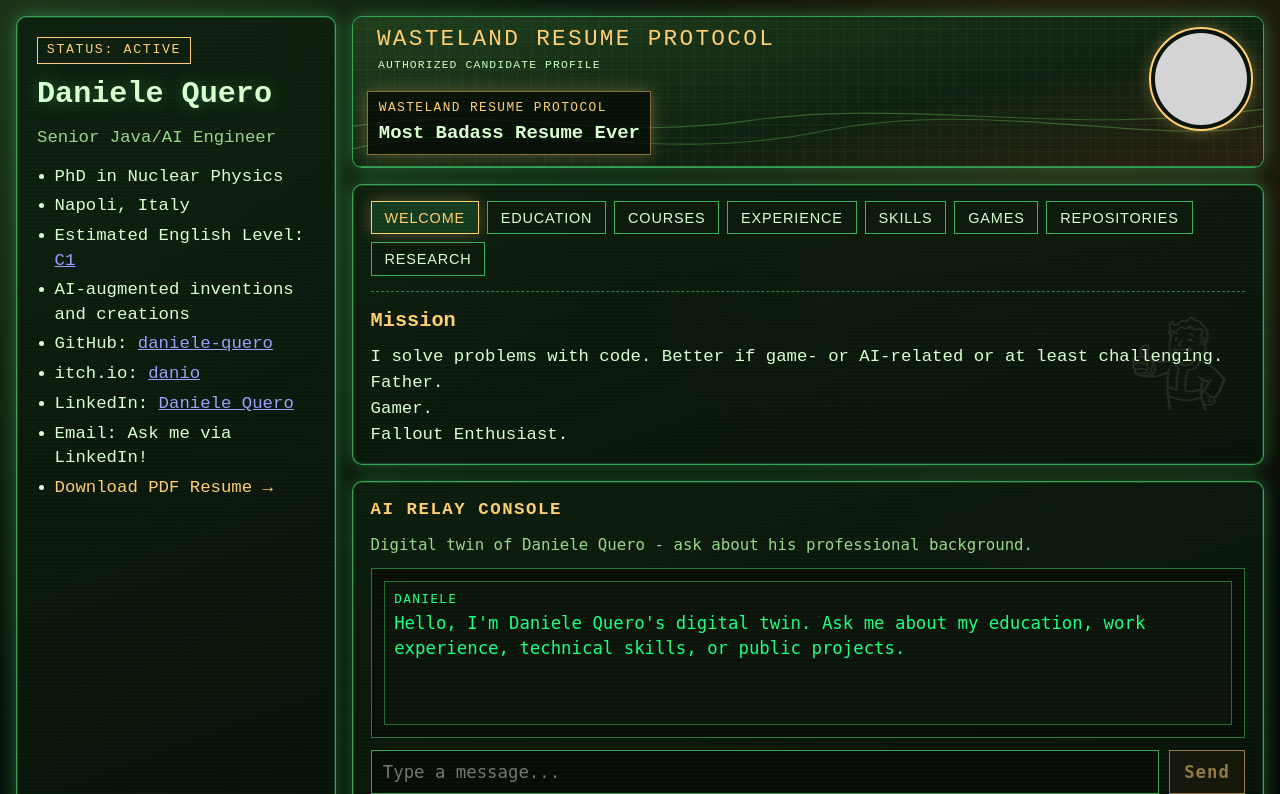
App - chat visibility by active tab › renders Link as clickable label in Research without showing raw article URL text
Click the tab "Research". click: [428, 259]
box: [371,242,485,276]
(page scrolled)
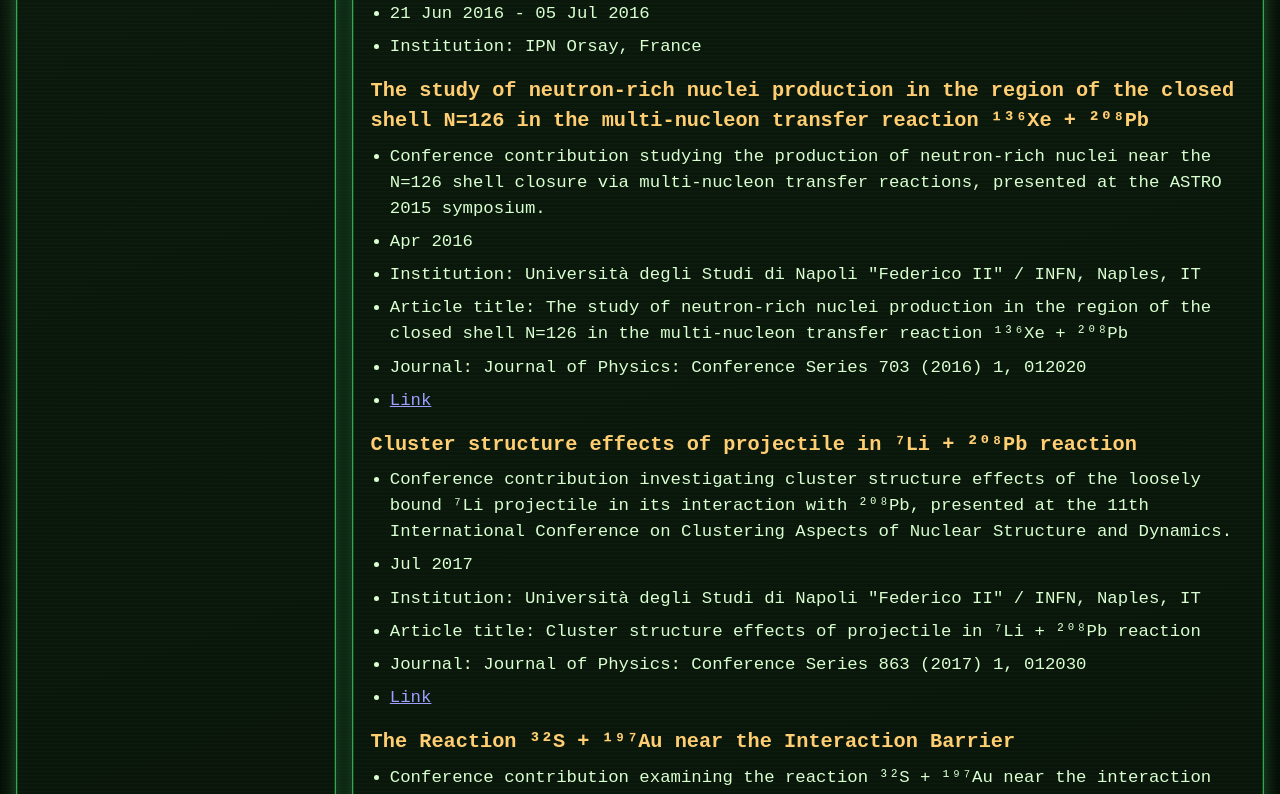
Result: the link "Link" below "Apr 2016" is shown at [390,391,431,410]
